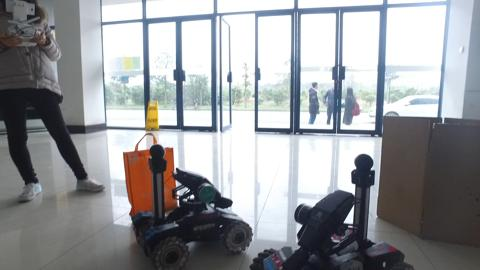box: (382, 115, 476, 248)
chariot: (248, 148, 415, 267), (136, 142, 258, 263)
